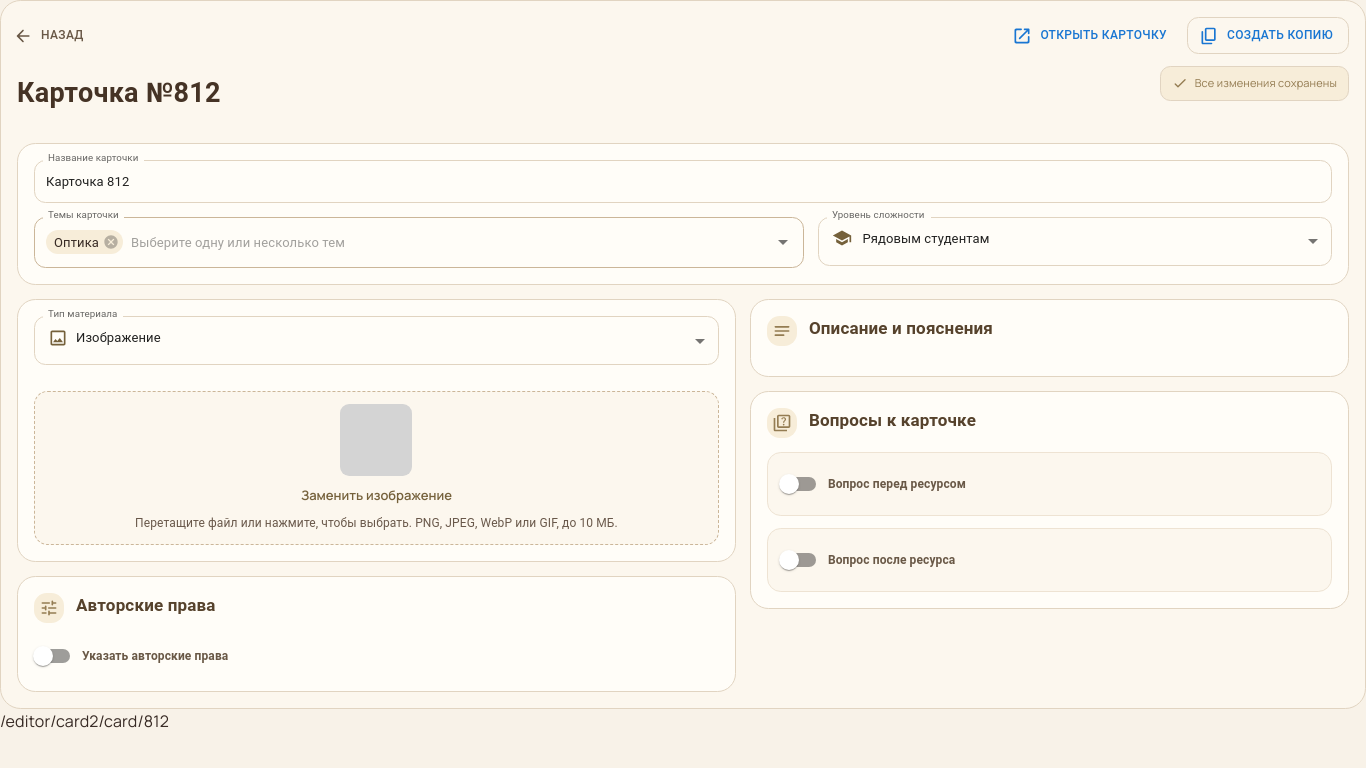
Scenario: failed saves expose a retry and preserve unsaved edits
This screenshot has width=1366, height=768.
Click the switch labelled "Указать авторские права" at (131, 656), box [33,646,228,666]
Wait 2000 ms
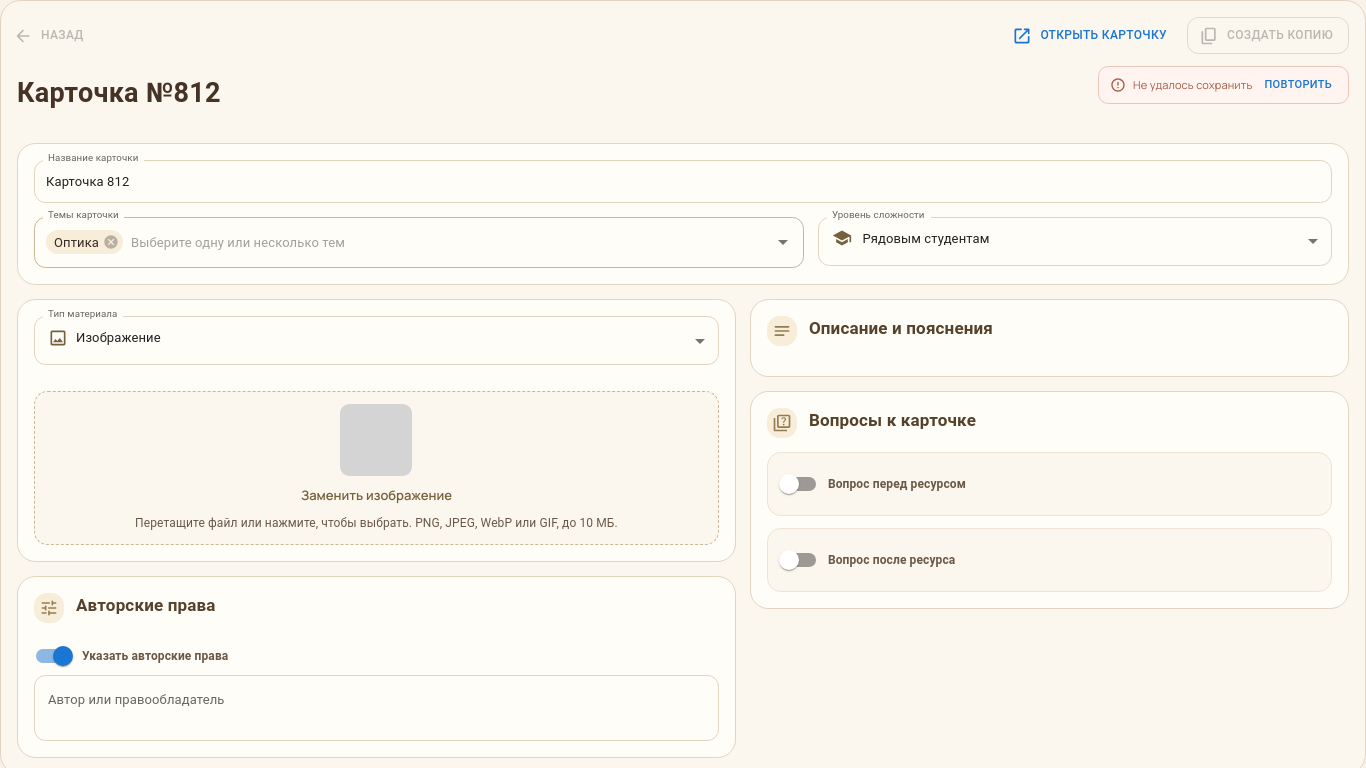
Result: the text "Не удалось сохранить" is shown at [1133,77,1252,93]
Result: the button "Назад" is disabled at [17,17,92,54]
Click the button "Повторить" at (1298, 85), box [1260,75,1337,95]
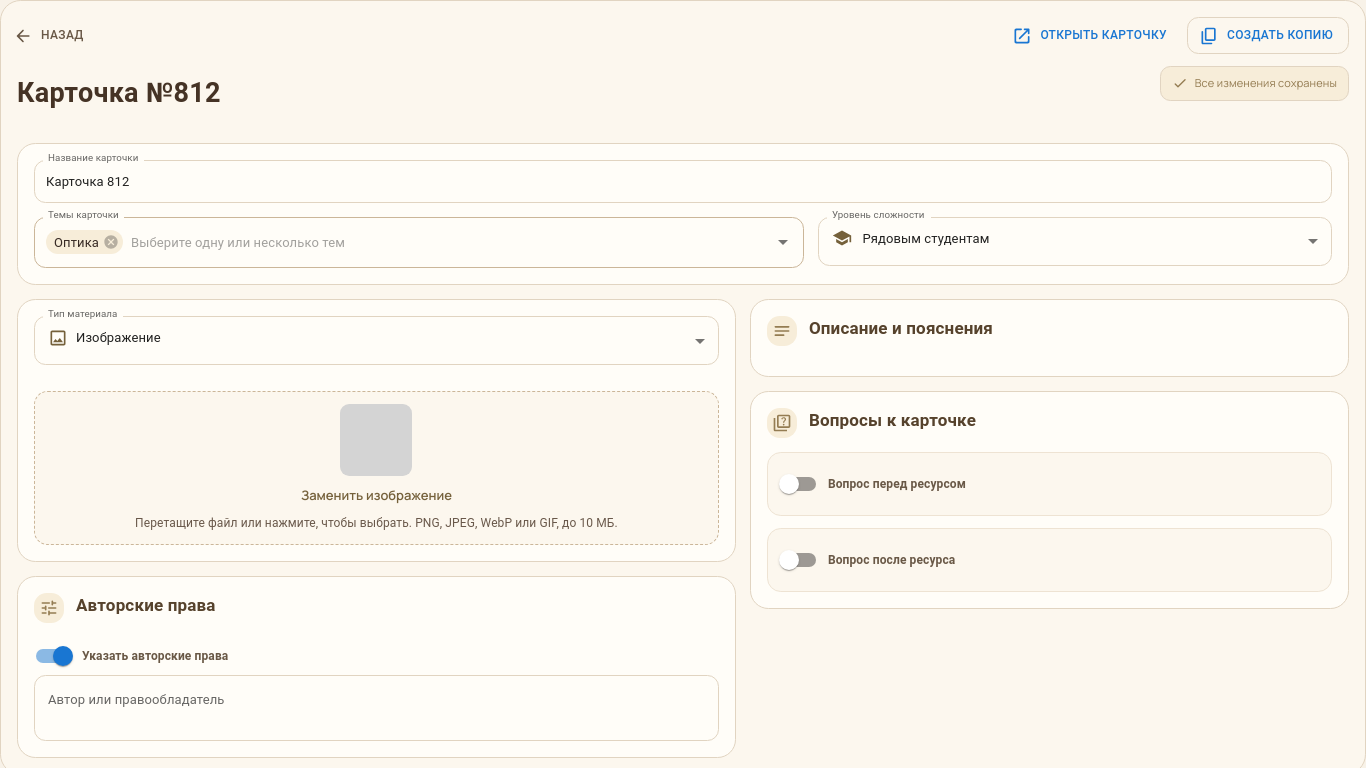
Result: the button "Назад" is enabled at [17,17,92,54]
